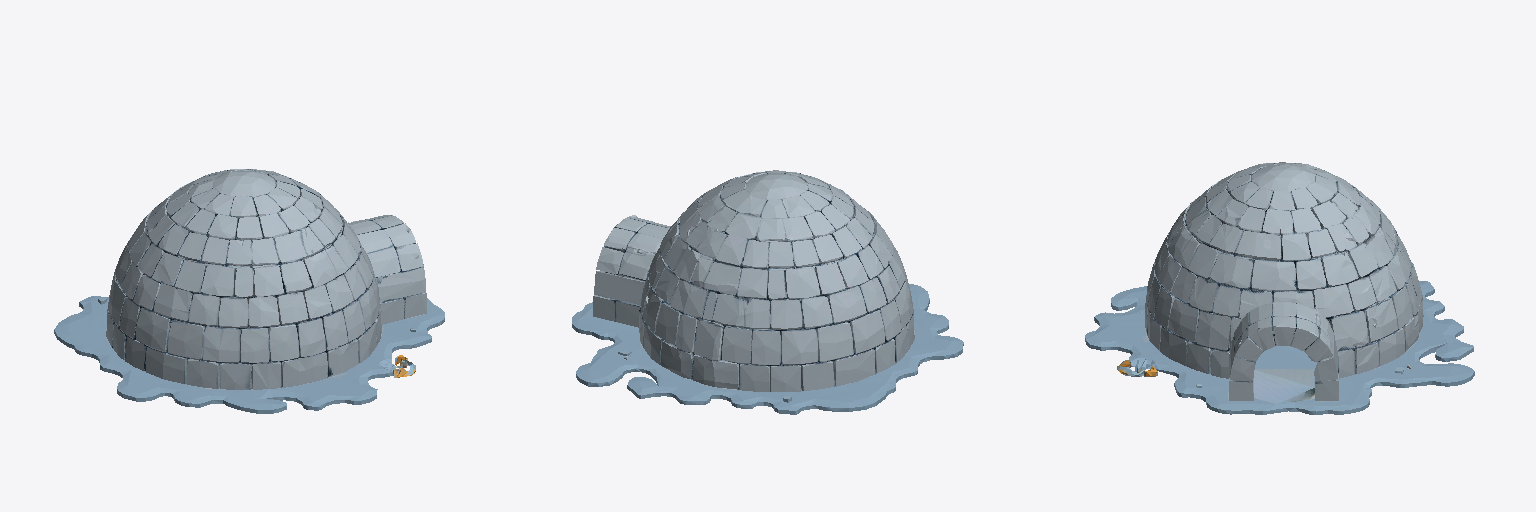
3 renders of one model, left to right at view 1: azimuth 30°, elevation 25°; view 2: azimuth 150°, elevation 25°; view 3: azimuth 270°, elevation 25°, orthographic.
Parts seen in each view (by area): view 1: tripo_node_09d1d955-0ccf-499c-8f51-1b841e850f5a; view 2: tripo_node_09d1d955-0ccf-499c-8f51-1b841e850f5a; view 3: tripo_node_09d1d955-0ccf-499c-8f51-1b841e850f5a.
Boxes of the visible parts, <box> form: tripo_node_09d1d955-0ccf-499c-8f51-1b841e850f5a: <box>54,169,444,413</box>; tripo_node_09d1d955-0ccf-499c-8f51-1b841e850f5a: <box>572,170,963,414</box>; tripo_node_09d1d955-0ccf-499c-8f51-1b841e850f5a: <box>1085,162,1474,414</box>.
Size of the model in its own units: 0.9741 by 0.4609 by 1.
Materials: 1 (1 with a texture image).